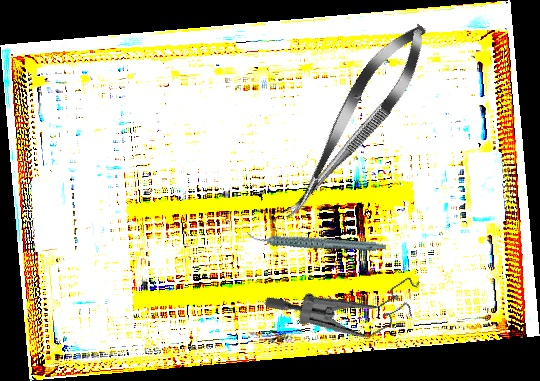Handpiece: (245, 203, 388, 279)
Micro Scissor: (268, 13, 442, 232)
Speculum: (262, 230, 434, 376)
